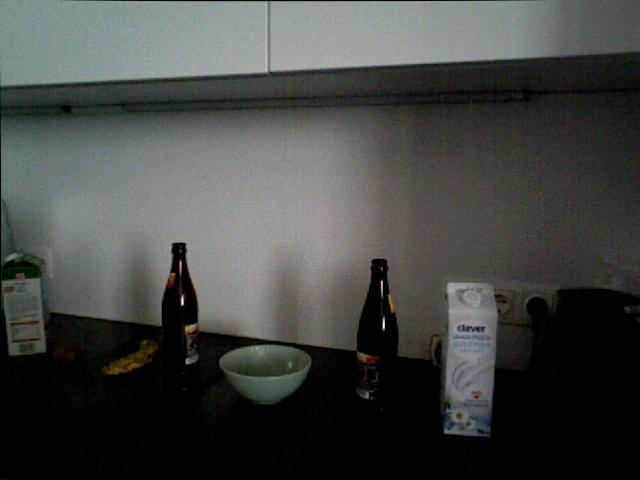bench: (436, 279, 499, 440), (354, 257, 399, 401), (0, 250, 52, 366), (160, 241, 200, 386)
bird: (218, 343, 311, 405)
giraffe: (429, 330, 447, 366)
motorcycle: (101, 338, 159, 376)
